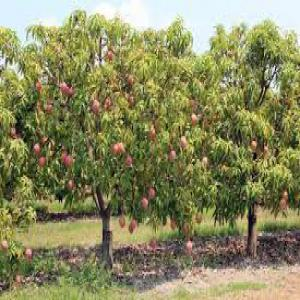Tree: (18, 10, 188, 272), (198, 16, 298, 258)
